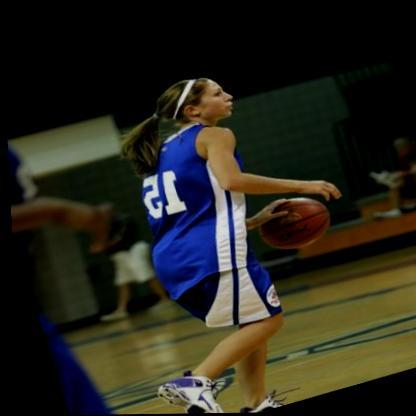basketball: (250, 190, 334, 260)
